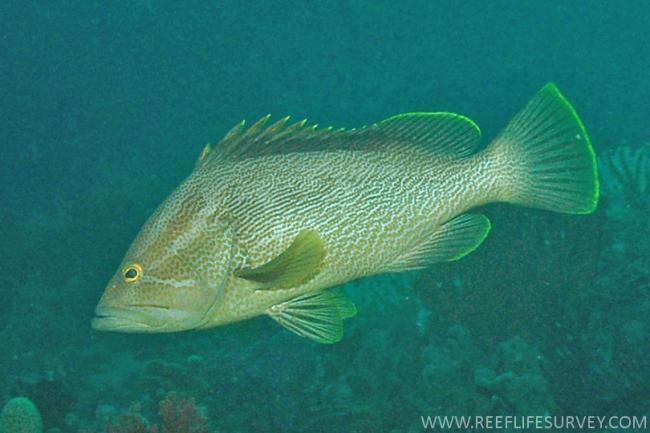fish: (90, 78, 602, 345)
